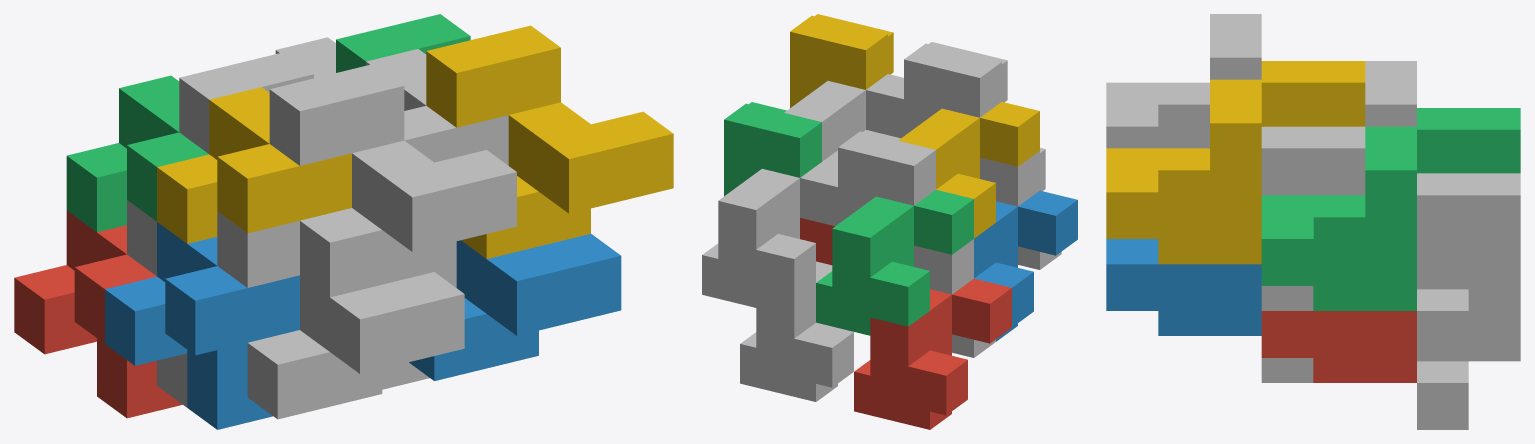
Rendered from tiling.obj.
3 views of the same model, side by side, from view 1: azimuth 30°, elevation 25°; view 2: azimuth 150°, elevation 25°; view 3: azimuth 270°, elevation 25° (orthographic). The views are drawn at different scales.
Parts seen in each view (by area): view 1: copy_2_domain_4, copy_2_domain_8, copy_2_domain_2, copy_1_domain_2, copy_1_domain_4, copy_2_domain_6, copy_1_domain_1, copy_1_domain_3, copy_1_domain_8, copy_2_domain_3, copy_2_domain_7, copy_2_domain_1 (+2 smaller); view 2: copy_1_domain_3, copy_1_domain_1, copy_1_domain_7, copy_1_domain_5, copy_1_domain_4, copy_1_domain_2, copy_2_domain_8, copy_2_domain_4, copy_2_domain_3, copy_2_domain_7, copy_1_domain_8, copy_2_domain_2 (+2 smaller); view 3: copy_2_domain_8, copy_2_domain_7, copy_1_domain_7, copy_2_domain_6, copy_2_domain_4, copy_2_domain_5, copy_1_domain_8, copy_1_domain_5, copy_1_domain_4, copy_1_domain_3, copy_2_domain_3, copy_1_domain_6.
Boxes of the visible parts, x1=… form: copy_2_domain_4: x1=269, y1=64, x2=516, y2=297; copy_2_domain_8: x1=426, y1=25, x2=673, y2=258; copy_2_domain_2: x1=217, y1=211, x2=464, y2=419; copy_1_domain_2: x1=105, y1=222, x2=299, y2=429; copy_1_domain_4: x1=157, y1=87, x2=351, y2=243; copy_2_domain_6: x1=409, y1=234, x2=621, y2=380; copy_1_domain_1: x1=14, y1=210, x2=182, y2=418; copy_1_domain_3: x1=66, y1=75, x2=208, y2=232; copy_1_domain_8: x1=366, y1=49, x2=508, y2=165; copy_2_domain_3: x1=179, y1=52, x2=313, y2=153; copy_2_domain_7: x1=336, y1=14, x2=470, y2=72; copy_2_domain_1: x1=127, y1=200, x2=187, y2=407; copy_1_domain_3: x1=816, y1=190, x2=973, y2=335; copy_1_domain_1: x1=854, y1=278, x2=1011, y2=429; copy_1_domain_7: x1=702, y1=162, x2=837, y2=307; copy_1_domain_5: x1=740, y1=261, x2=853, y2=401; copy_1_domain_4: x1=898, y1=102, x2=1039, y2=238; copy_1_domain_2: x1=974, y1=190, x2=1077, y2=341; copy_2_domain_8: x1=790, y1=14, x2=893, y2=107; copy_2_domain_4: x1=904, y1=42, x2=1007, y2=135; copy_2_domain_3: x1=838, y1=130, x2=935, y2=223; copy_2_domain_7: x1=724, y1=102, x2=821, y2=196; copy_1_domain_8: x1=784, y1=74, x2=903, y2=165; copy_2_domain_2: x1=980, y1=148, x2=1061, y2=269; copy_2_domain_8: x1=1106, y1=79, x2=1261, y2=264; copy_2_domain_7: x1=1261, y1=126, x2=1416, y2=310; copy_1_domain_7: x1=1417, y1=173, x2=1520, y2=357; copy_2_domain_6: x1=1106, y1=239, x2=1261, y2=335; copy_2_domain_4: x1=1106, y1=14, x2=1261, y2=148; copy_2_domain_5: x1=1261, y1=311, x2=1416, y2=382; copy_1_domain_8: x1=1261, y1=126, x2=1365, y2=310; copy_1_domain_5: x1=1417, y1=289, x2=1520, y2=429; copy_1_domain_4: x1=1261, y1=61, x2=1365, y2=126; copy_1_domain_3: x1=1417, y1=108, x2=1520, y2=173; copy_2_domain_3: x1=1365, y1=61, x2=1416, y2=126; copy_1_domain_6: x1=1261, y1=358, x2=1313, y2=382.
Size of the model in its own units: 8 by 7 by 8.
